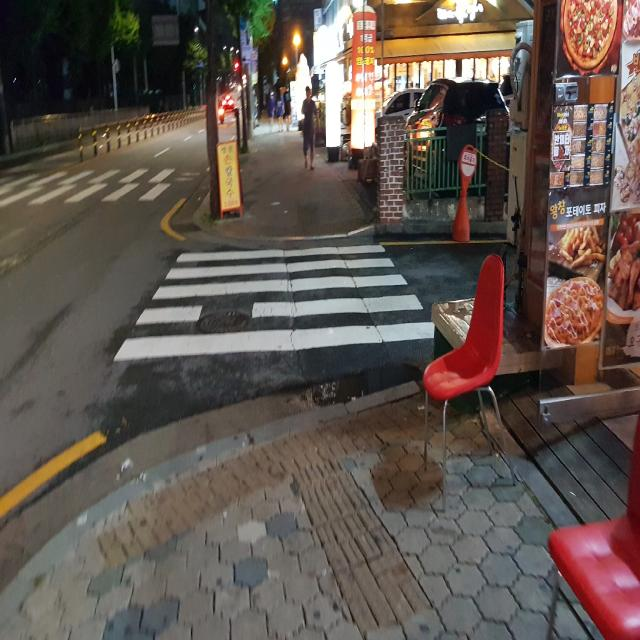횡단보도: (113, 244, 436, 364)
